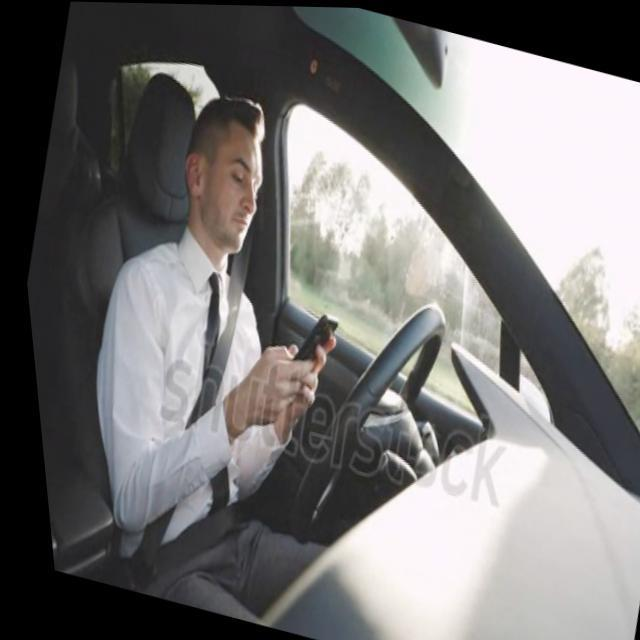PhoneCall: (274, 301, 339, 400)
